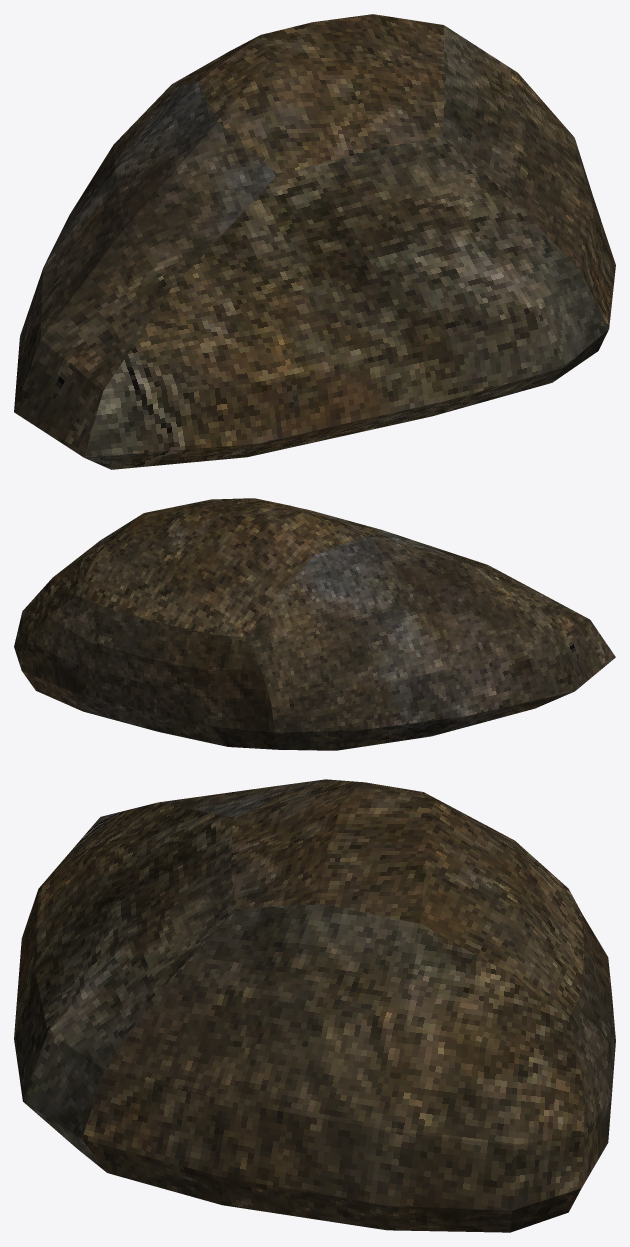
File: stone_4.glb
The picture shows the model from 3 angles, top to bottom: view 1: azimuth 30°, elevation 25°; view 2: azimuth 150°, elevation 25°; view 3: azimuth 270°, elevation 25°; orthographic projection. The views are drawn at different scales.
Visible parts, largest first — view 1: stone_4; view 2: stone_4; view 3: stone_4.
Boxes of the visible parts, x1,y1,x2,y2 form: stone_4: (14,14,615,469); stone_4: (14,498,615,750); stone_4: (14,779,615,1232).
Bounding box in the file's own units: 0.4936 × 0.2003 × 0.3559.
1 material, 1 textured.
